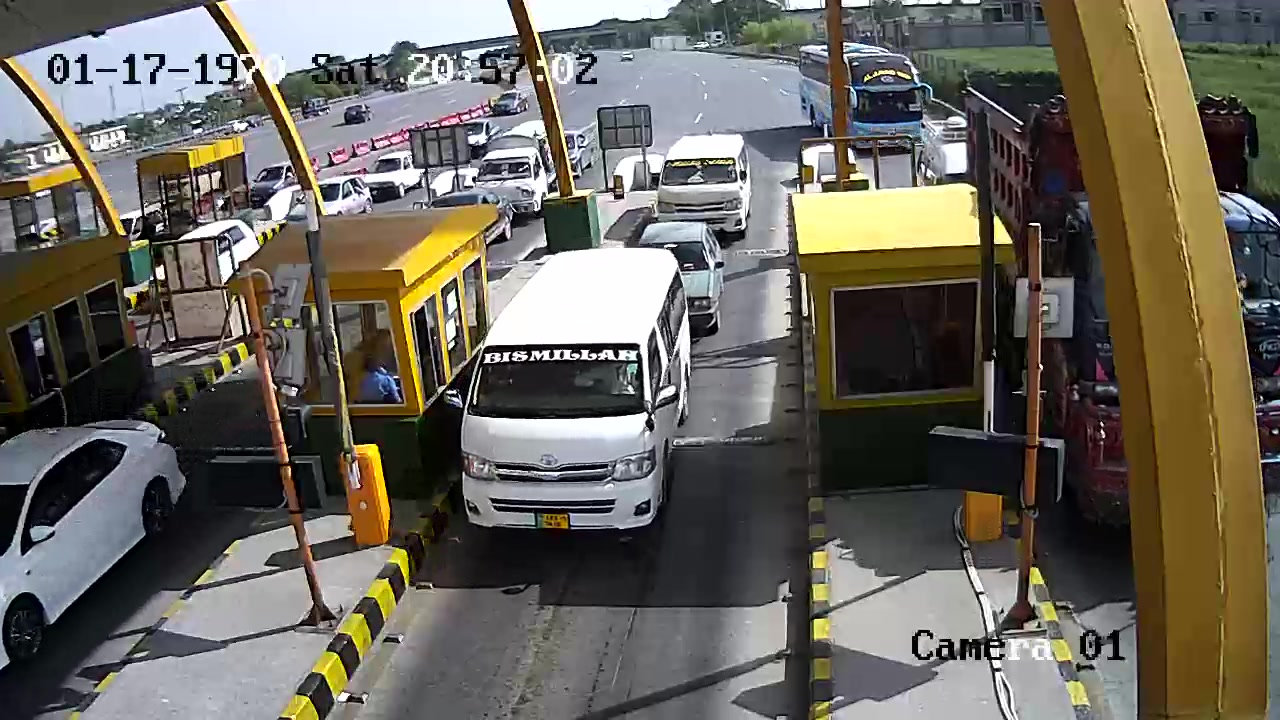F2: (454, 243, 699, 562)
